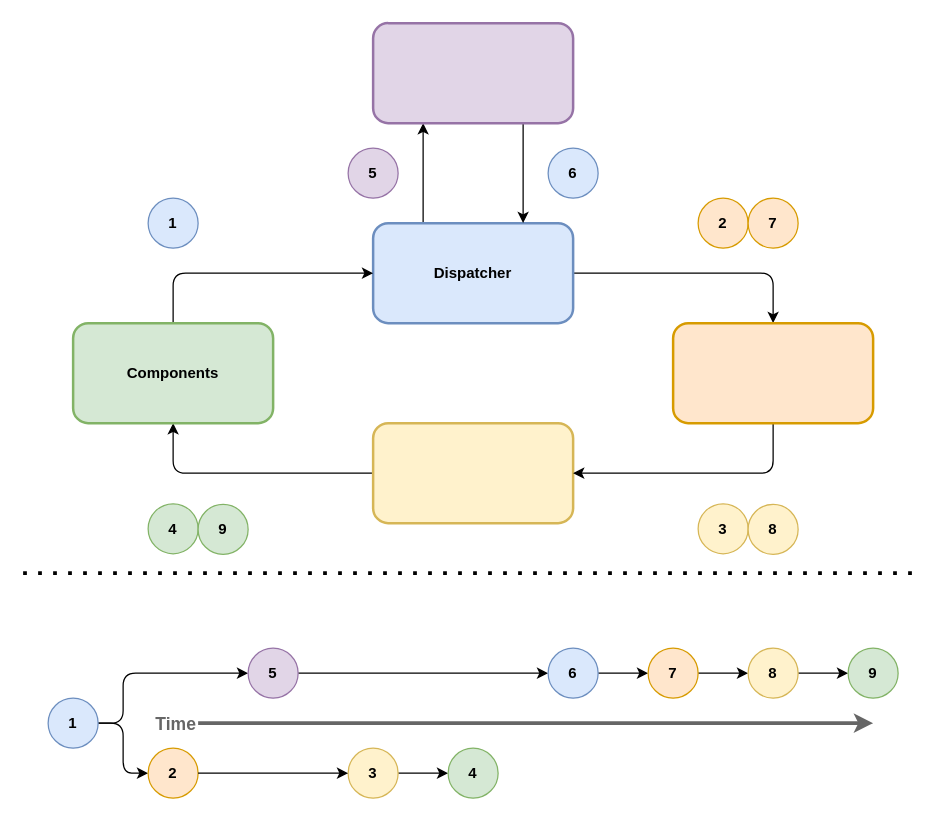
This 948x820 diagram has some shape labels left out. The centre of each missing label's shape, as x and y in pixels:
Effects: pixel 472 72
Reducers: pixel 772 372
Stores: pixel 472 472
